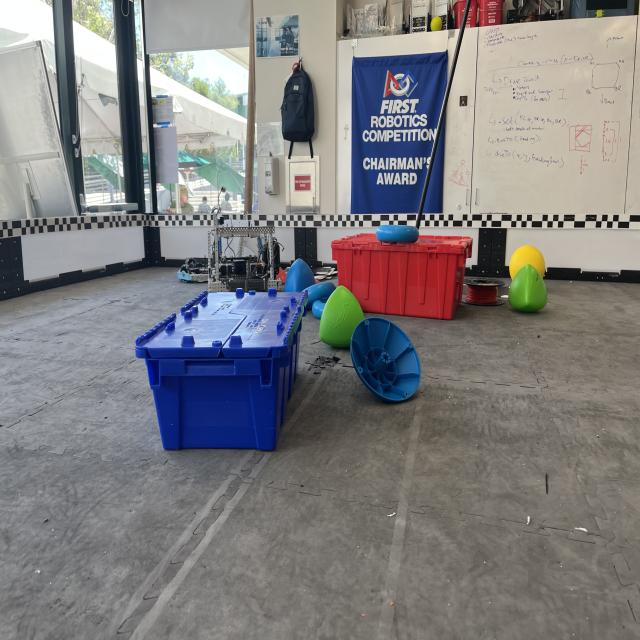Blue-Ring: (304, 282, 335, 308), (376, 225, 419, 243), (311, 300, 326, 318)
